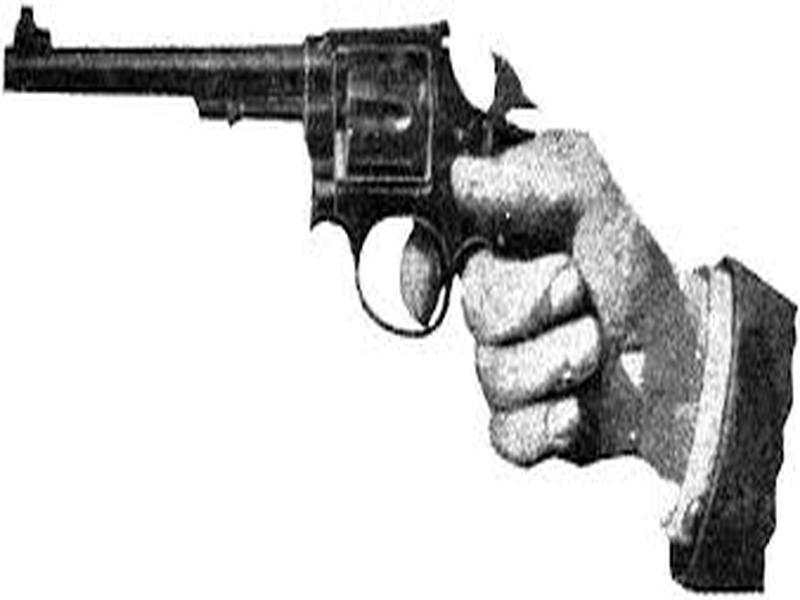gun: (3, 2, 800, 515)
